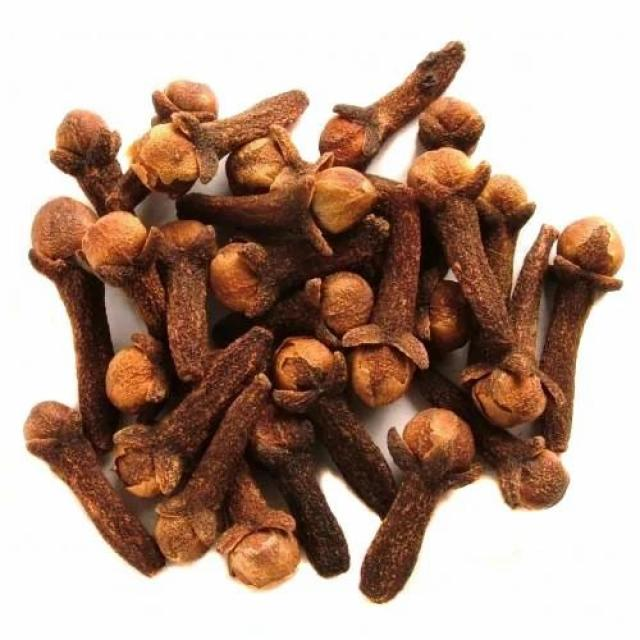clove: (25, 42, 624, 602)
